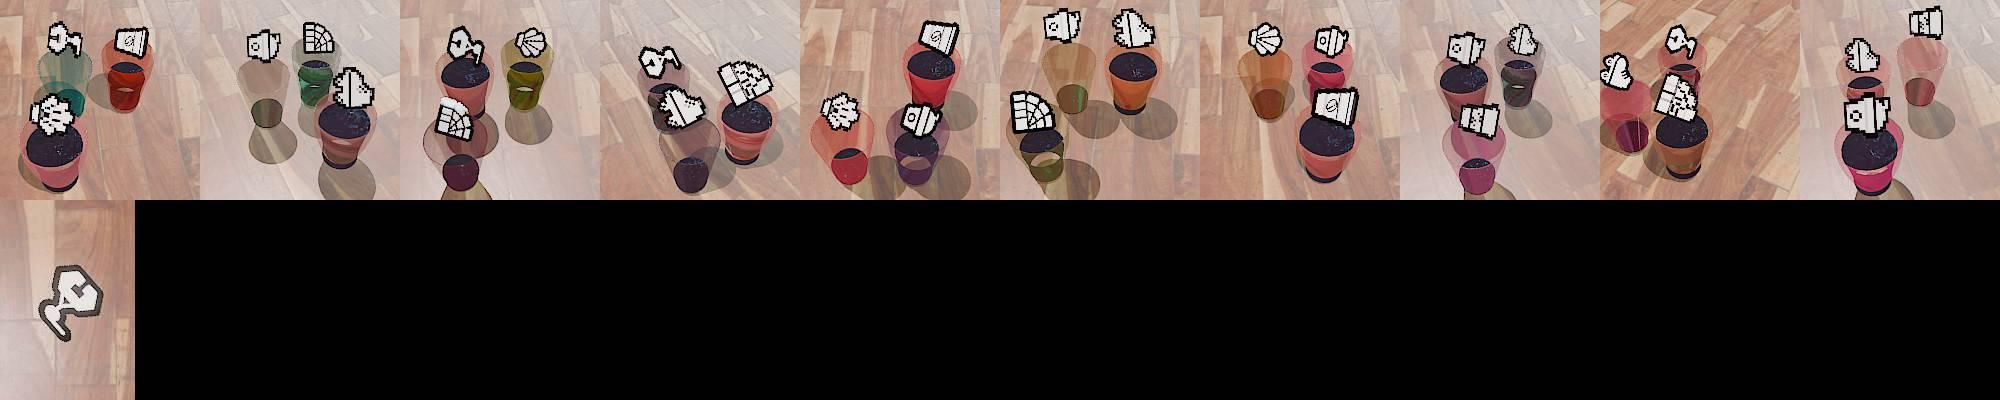icon: (34, 262, 103, 343), (717, 60, 773, 107), (1653, 70, 1700, 121), (656, 85, 708, 129), (1010, 89, 1057, 135), (1310, 85, 1357, 130), (31, 93, 77, 138), (1844, 92, 1892, 135), (329, 66, 374, 110), (434, 97, 476, 141), (1111, 8, 1154, 50), (819, 90, 860, 131), (1457, 101, 1500, 139), (917, 19, 960, 57), (445, 25, 486, 65), (901, 99, 941, 138), (1445, 31, 1489, 66), (639, 45, 682, 80), (46, 20, 83, 59), (1043, 8, 1082, 45), (1843, 37, 1879, 74), (246, 28, 283, 64), (1249, 22, 1284, 59), (301, 20, 337, 56), (1314, 23, 1351, 57), (1601, 51, 1633, 90), (1665, 24, 1699, 60), (1908, 6, 1944, 39), (114, 25, 148, 59), (1508, 23, 1540, 56), (514, 28, 547, 59)
